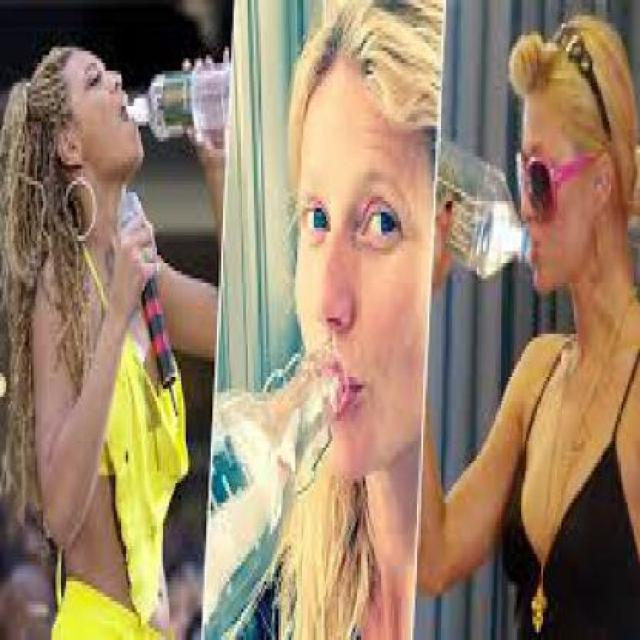Drinking: (117, 43, 241, 172)
